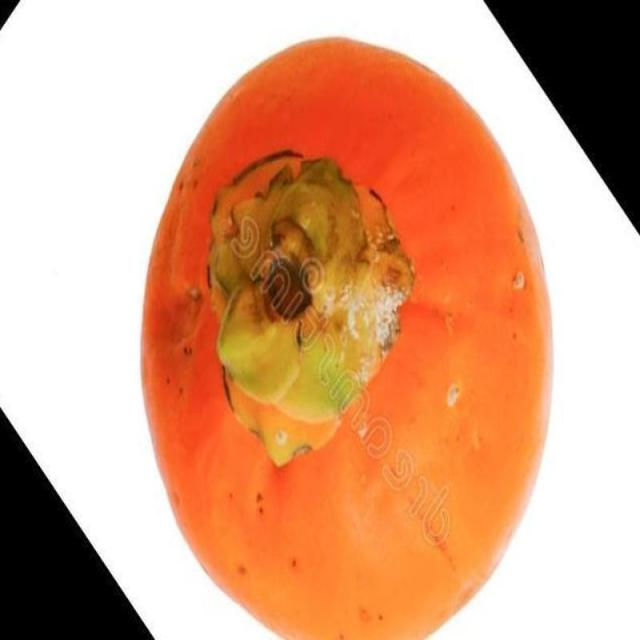good: (144, 38, 553, 639)
